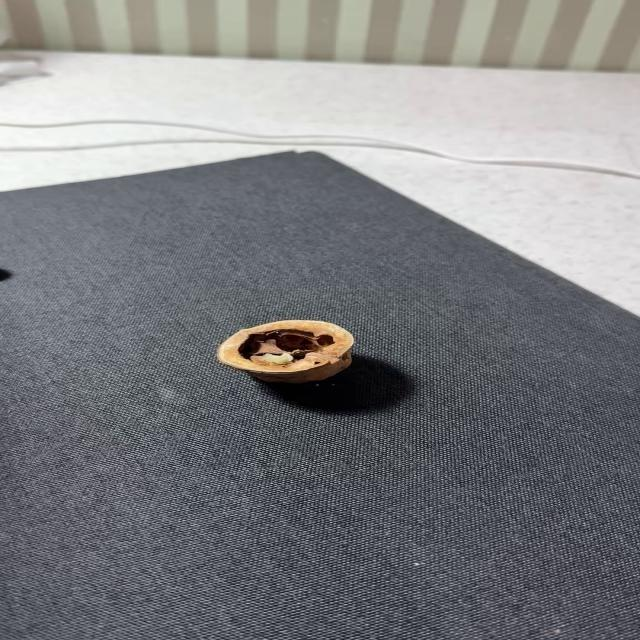nuts-bad0.5: (217, 321, 353, 384)
